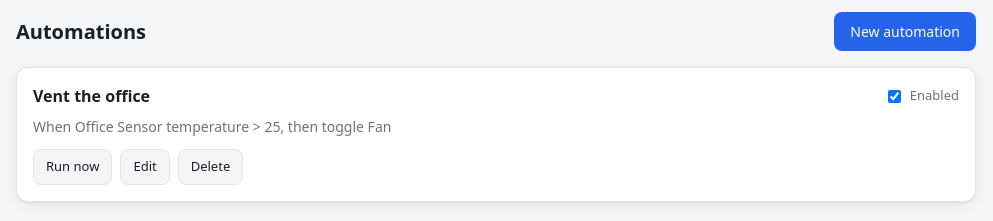
Test: AutomationsPage › deletes an automation
Check: the text "Vent the office" is shown, box [33, 84, 150, 108]
Step 1. Click the button "Delete" → (210, 167), box [178, 149, 243, 184]
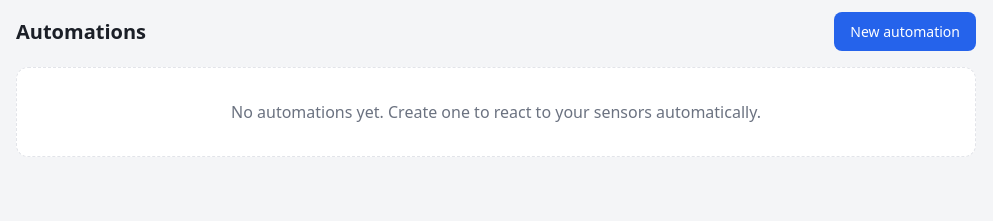
Check: the text "Vent the office" is gone
